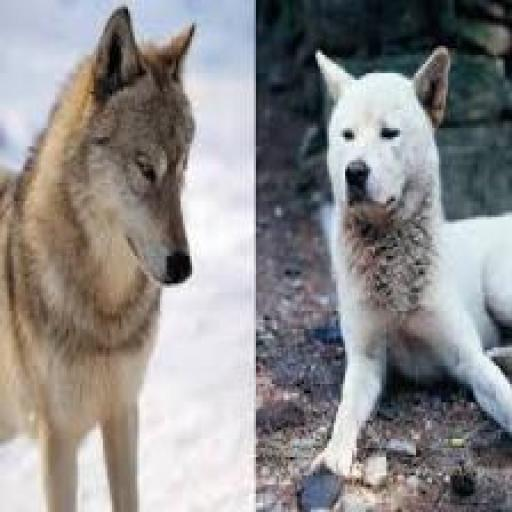wolf: (0, 0, 210, 512)
